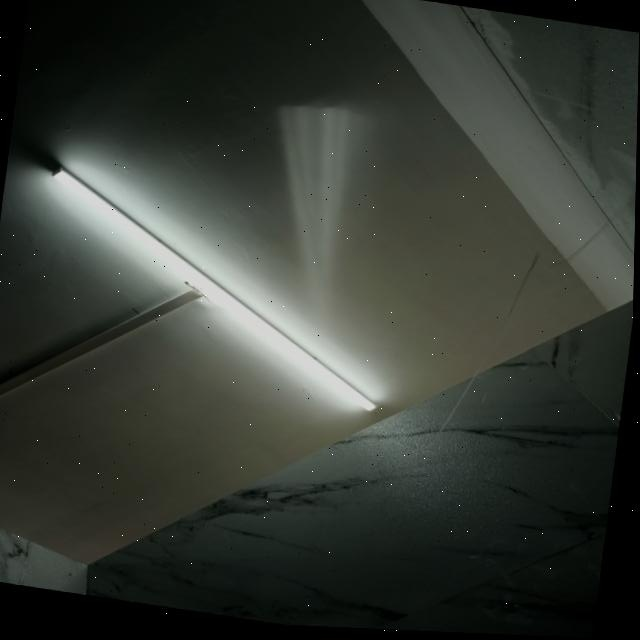fluorescent tube: (33, 172, 403, 414)
